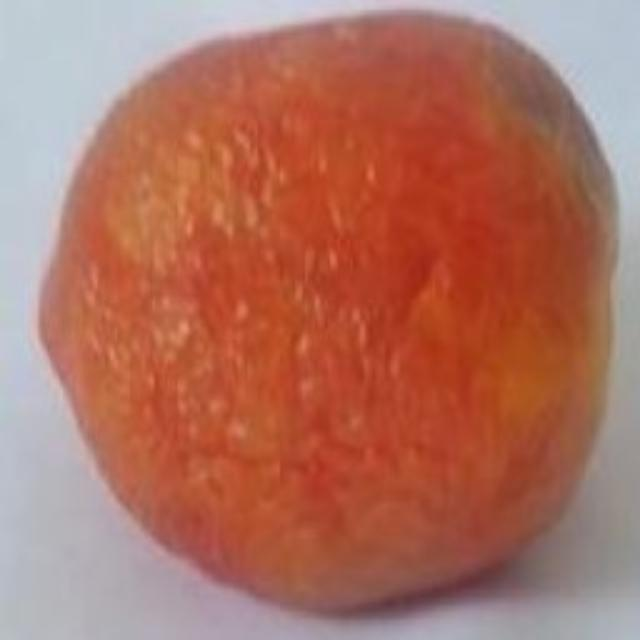defect: (37, 5, 620, 613)
